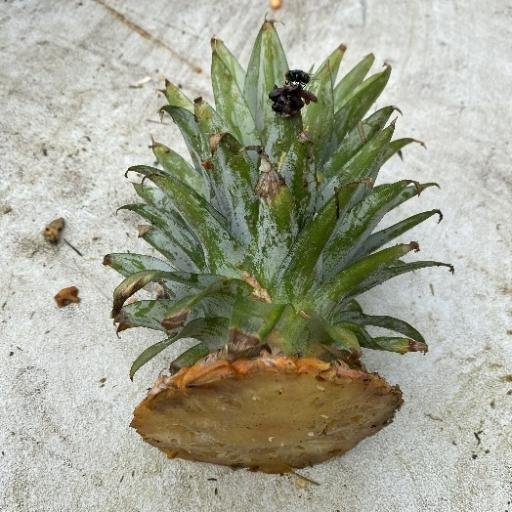Waste: (102, 12, 454, 475), (128, 351, 405, 475)
